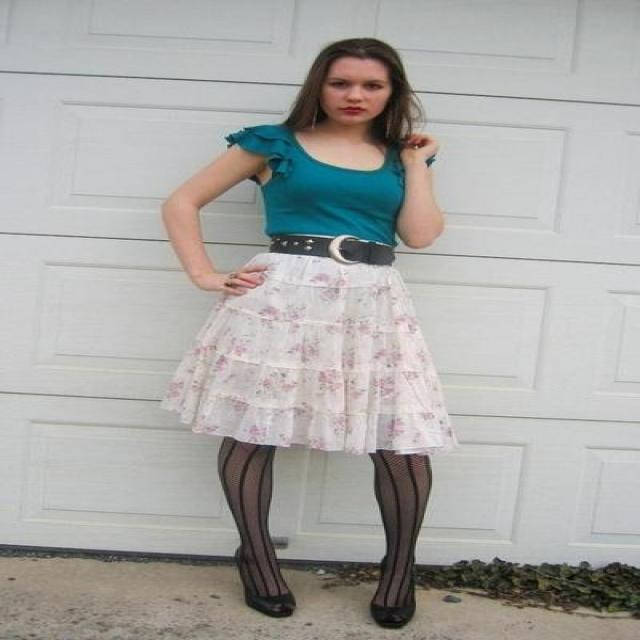shirt: (226, 120, 427, 243)
shoe: (250, 589, 414, 626)
skirt: (182, 253, 440, 453)
